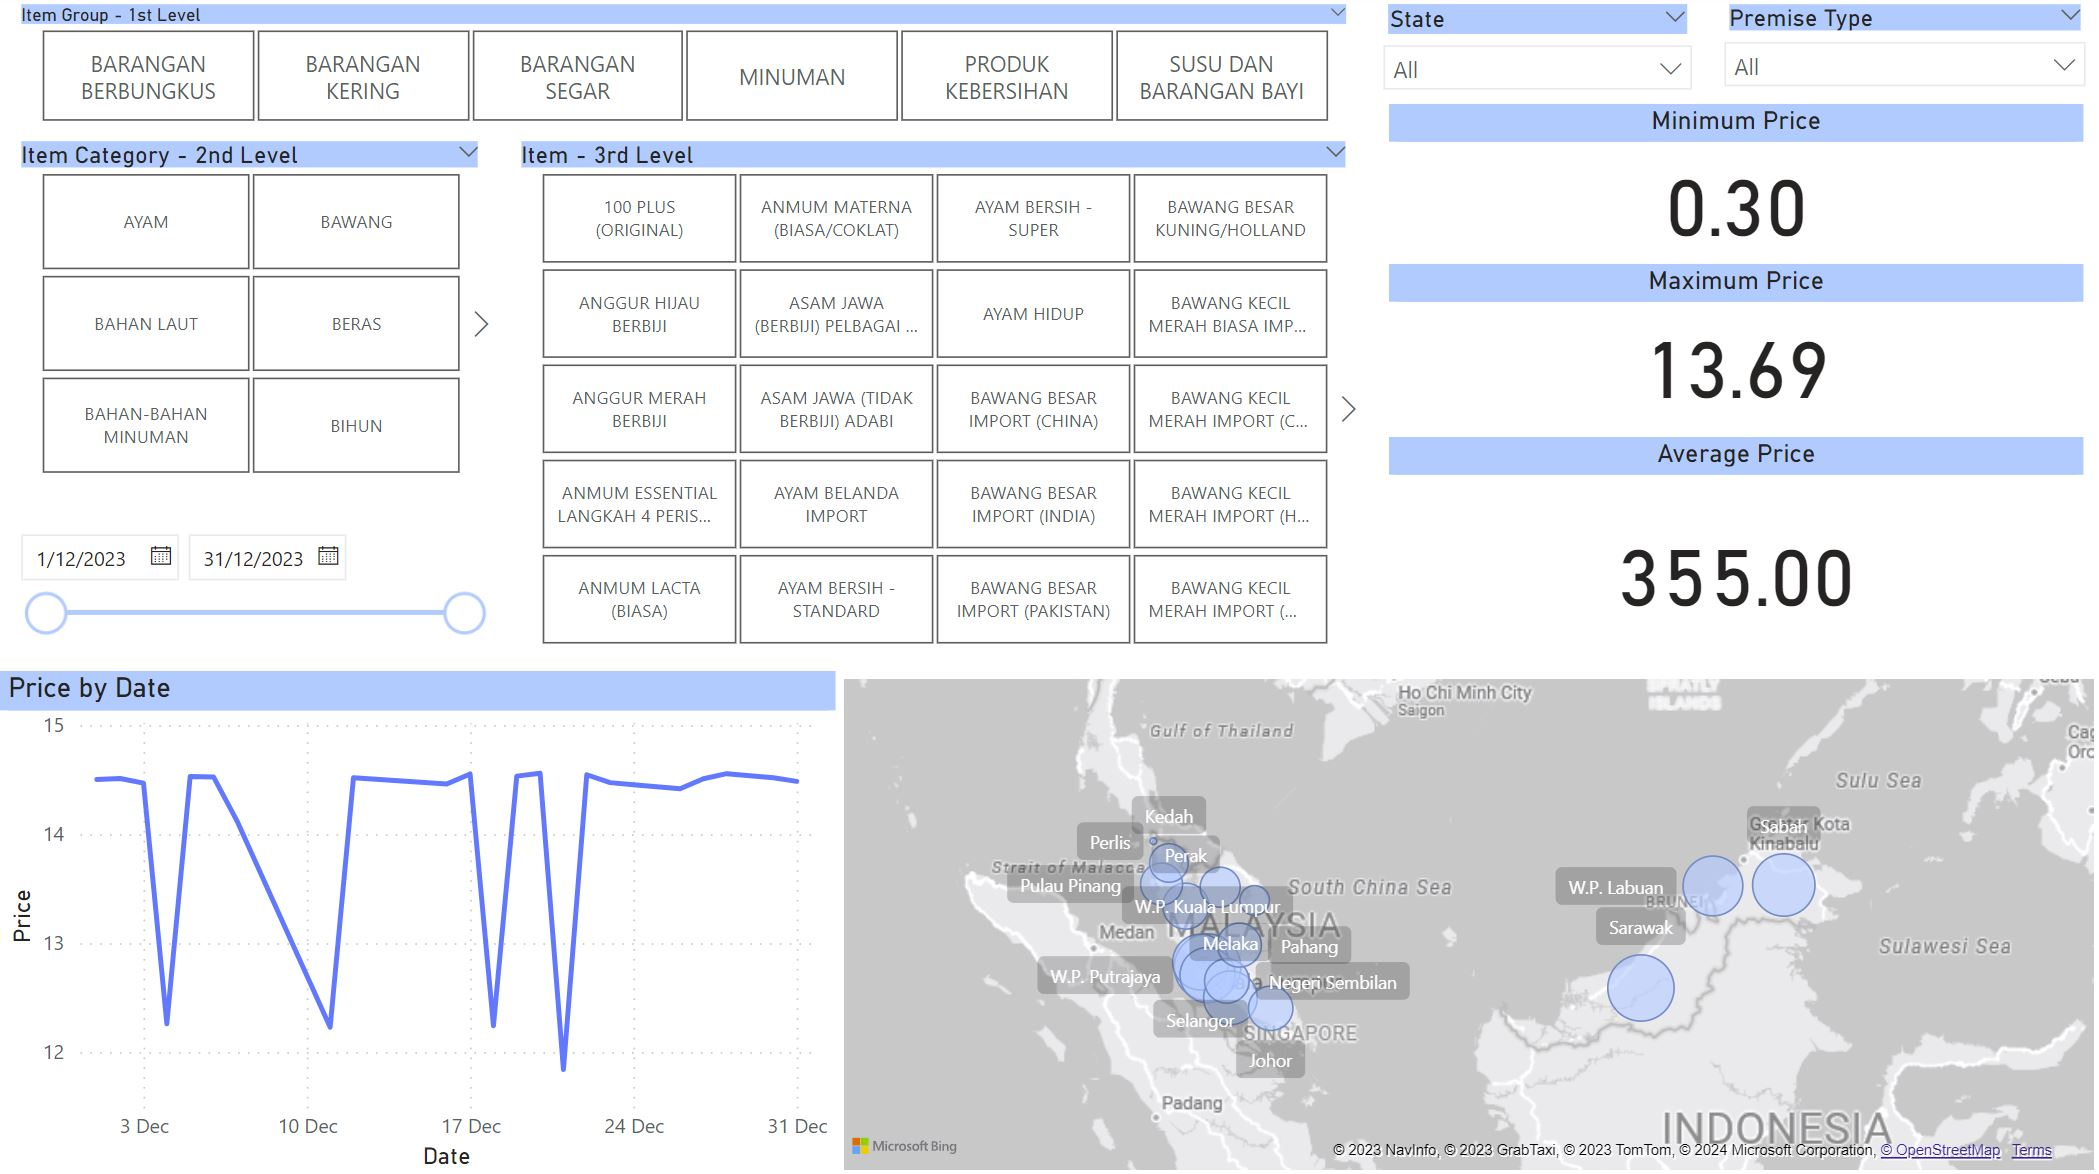

This screenshot's page, from the dashboard's own definition file:
{"tool":"powerbi","page":{"name":"Page 1","canvas":[1280,720],"ordinal":0},"visuals":[{"type":"lineChart","title":"Price by Date","fields":{"Category":["pcdb price_catcher.date_pc"],"Y":["Avg(pcdb price_catcher.price)"]},"box":[0,411.2,509.3,308.4],"z":0},{"type":"slicer","fields":{"Values":["pcdb price_catcher.state"]},"box":[832.5,0,207.6,65.8],"z":1},{"type":"map","fields":{"Category":["pcdb price_catcher.state"],"Size":["Avg(pcdb price_catcher.price)"]},"box":[509.3,411.2,770.7,309.1],"z":2},{"type":"slicer","fields":{"Values":["pcdb price_catcher.item_group"]},"box":[0,0,832.5,83.3],"z":3},{"type":"slicer","fields":{"Values":["pcdb price_catcher.item_category"]},"box":[0,83.3,304.4,213.7],"z":4},{"type":"slicer","fields":{"Values":["pcdb price_catcher.item"]},"box":[304.4,83.3,528.1,318.5],"z":5},{"type":"slicer","fields":{"Values":["pcdb price_catcher.premise_type"]},"box":[1040.1,0,239.9,65.8],"z":6},{"type":"card","title":"Minimum Price","fields":{"Values":["Min(pcdb price_catcher.price)"]},"box":[845.9,65.8,423.3,97.4],"z":7},{"type":"card","title":"Average Price","fields":{"Values":["Max(pcdb price_catcher.price)"]},"box":[845.9,268.8,423.3,142.4],"z":9},{"type":"card","title":"Maximum Price","fields":{"Values":["Avg(pcdb price_catcher.price)"]},"box":[845.9,163.3,423.3,100.1],"z":10},{"type":"slicer","fields":{"Values":["pcdb price_catcher.date_pc"]},"box":[0,317.8,304.4,84],"z":11}]}

Visuals, with their boxes in screenshot pixels (x1, y1, x2, y2), scaled from the page's 1280x720 canvas onto the 2099x1174 screenshot:
"Price by Date" lineChart: {"left": 0, "top": 670, "right": 835, "bottom": 1173}
slicer - pcdb price_catcher.state: {"left": 1365, "top": 0, "right": 1706, "bottom": 107}
map - pcdb price_catcher.state x Avg(pcdb price_catcher.price): {"left": 835, "top": 670, "right": 2098, "bottom": 1173}
slicer - pcdb price_catcher.item_group: {"left": 0, "top": 0, "right": 1365, "bottom": 136}
slicer - pcdb price_catcher.item_category: {"left": 0, "top": 136, "right": 499, "bottom": 484}
slicer - pcdb price_catcher.item: {"left": 499, "top": 136, "right": 1365, "bottom": 655}
slicer - pcdb price_catcher.premise_type: {"left": 1706, "top": 0, "right": 2098, "bottom": 107}
"Minimum Price" card: {"left": 1387, "top": 107, "right": 2081, "bottom": 266}
"Average Price" card: {"left": 1387, "top": 438, "right": 2081, "bottom": 670}
"Maximum Price" card: {"left": 1387, "top": 266, "right": 2081, "bottom": 429}
slicer - pcdb price_catcher.date_pc: {"left": 0, "top": 518, "right": 499, "bottom": 655}
